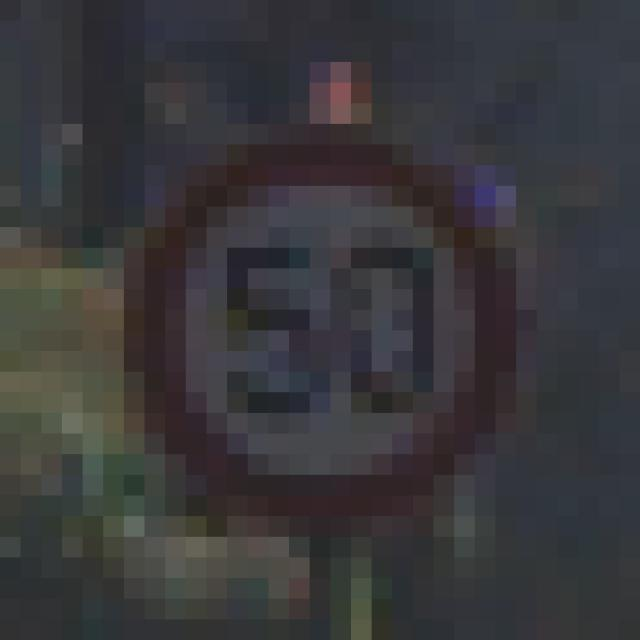Ograniczenie predkosci do 50: (131, 135, 512, 527)
